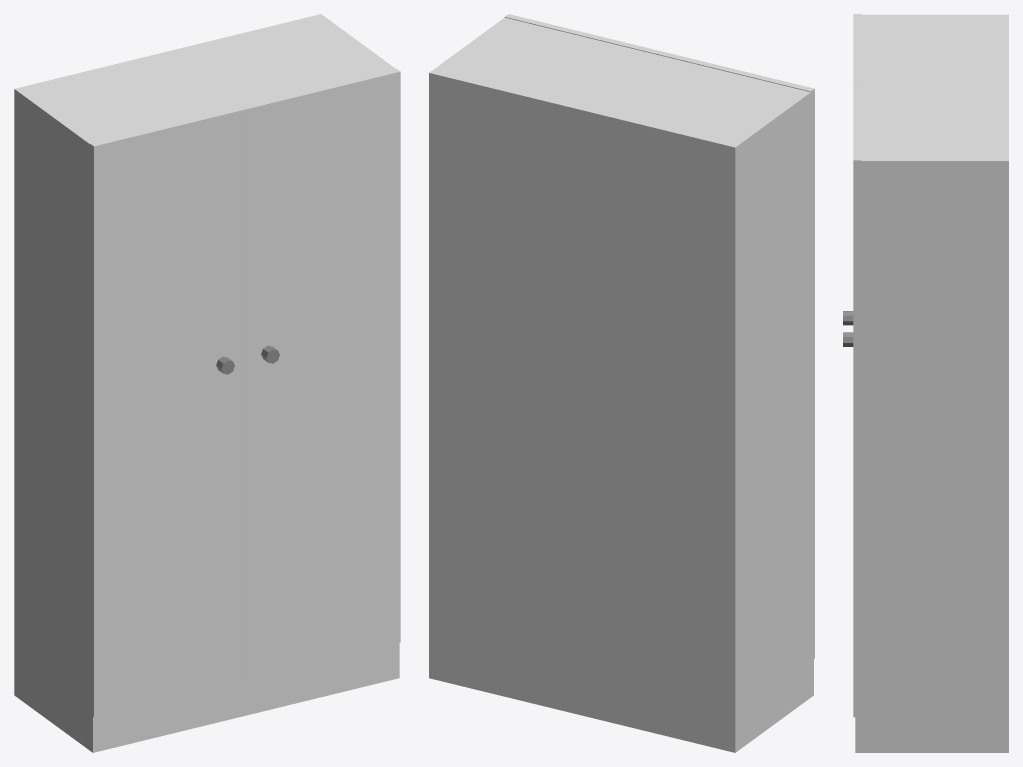
The model's file is LC_3177_iron_locker_LOD2.fbx.
3 views of the same model, side by side, from view 1: azimuth 30°, elevation 25°; view 2: azimuth 150°, elevation 25°; view 3: azimuth 270°, elevation 25° (orthographic). The views are drawn at different scales.
Visible parts, largest first — view 1: LC_3177_il_LOD2; view 2: LC_3177_il_LOD2; view 3: LC_3177_il_LOD2.
Part boxes in pixels (box(x1,y1,x2,y2)): LC_3177_il_LOD2: box(14, 14, 400, 752); LC_3177_il_LOD2: box(429, 14, 814, 752); LC_3177_il_LOD2: box(843, 14, 1008, 752).
Bounding box in the file's own units: 90.01 × 170 × 43.19.
1 material, 1 textured.
